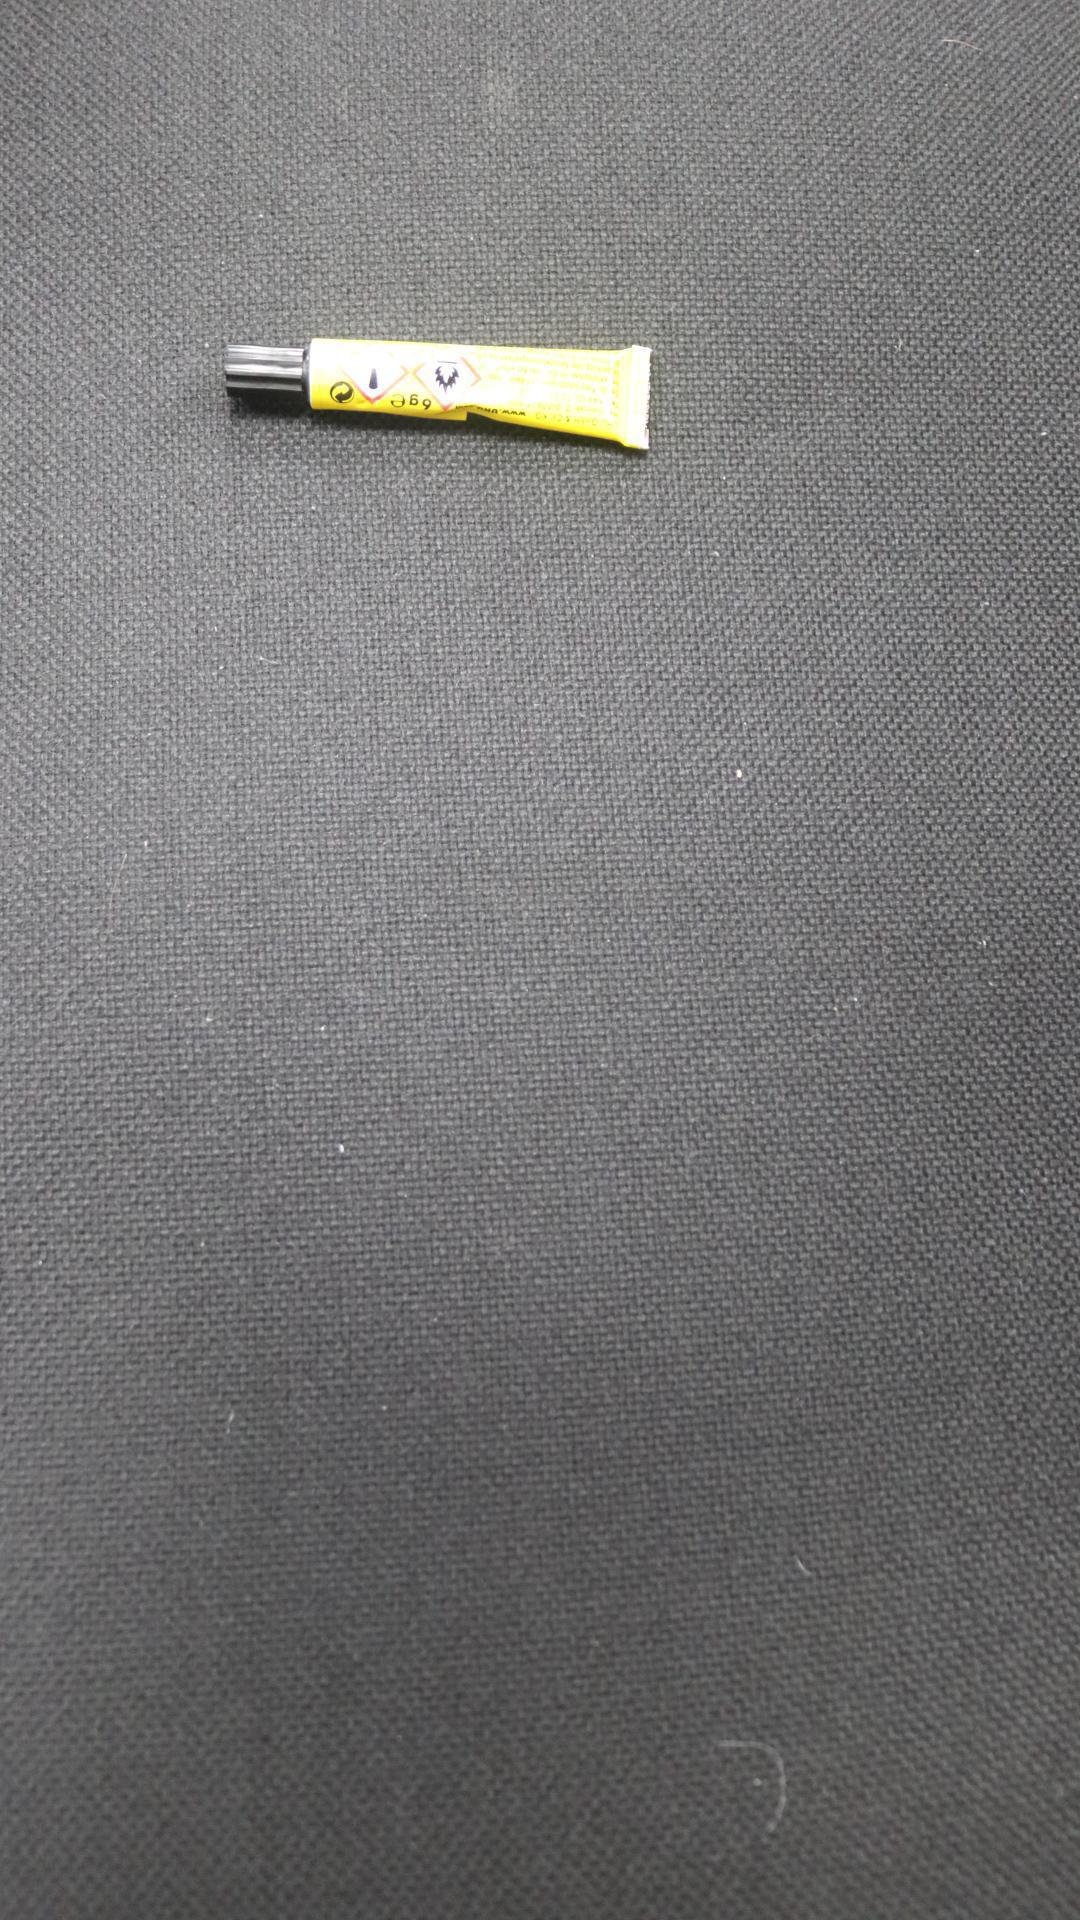Head: (259, 364, 268, 374)
Tail: (635, 394, 644, 404)
Tube: (224, 336, 654, 452)
